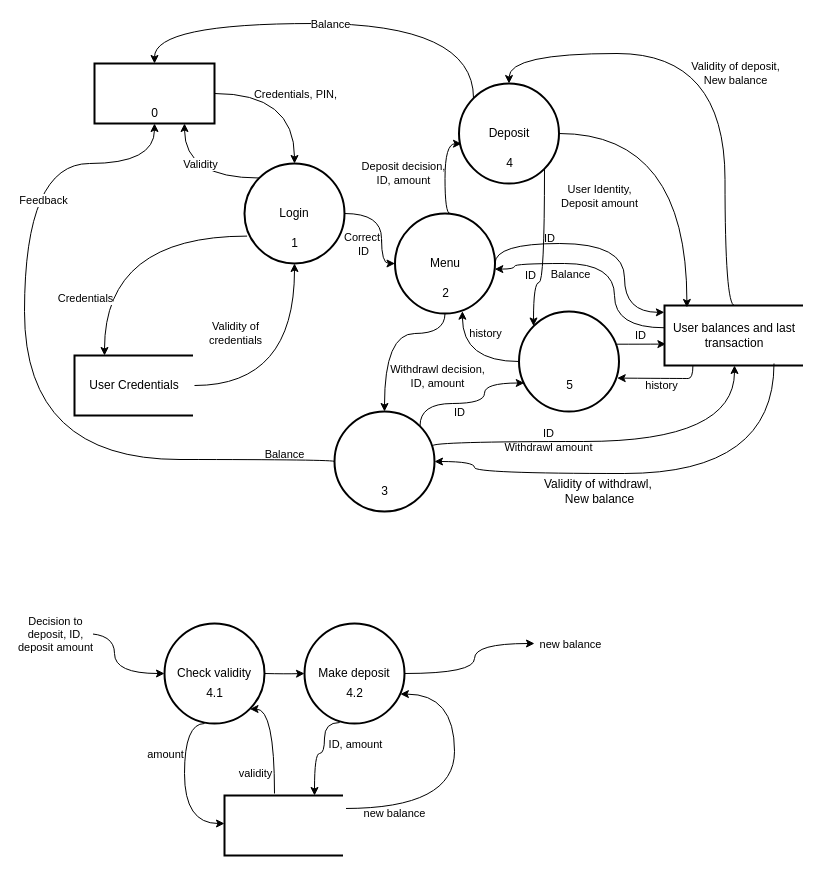
This 824x877 diagram has some shape labels left out. Each missing label, with the box of its shape:
Print Receipt: (518, 310, 620, 412)
User: (93, 62, 215, 124)
User Balances: (223, 794, 345, 856)
Withdraw: (333, 410, 435, 512)
